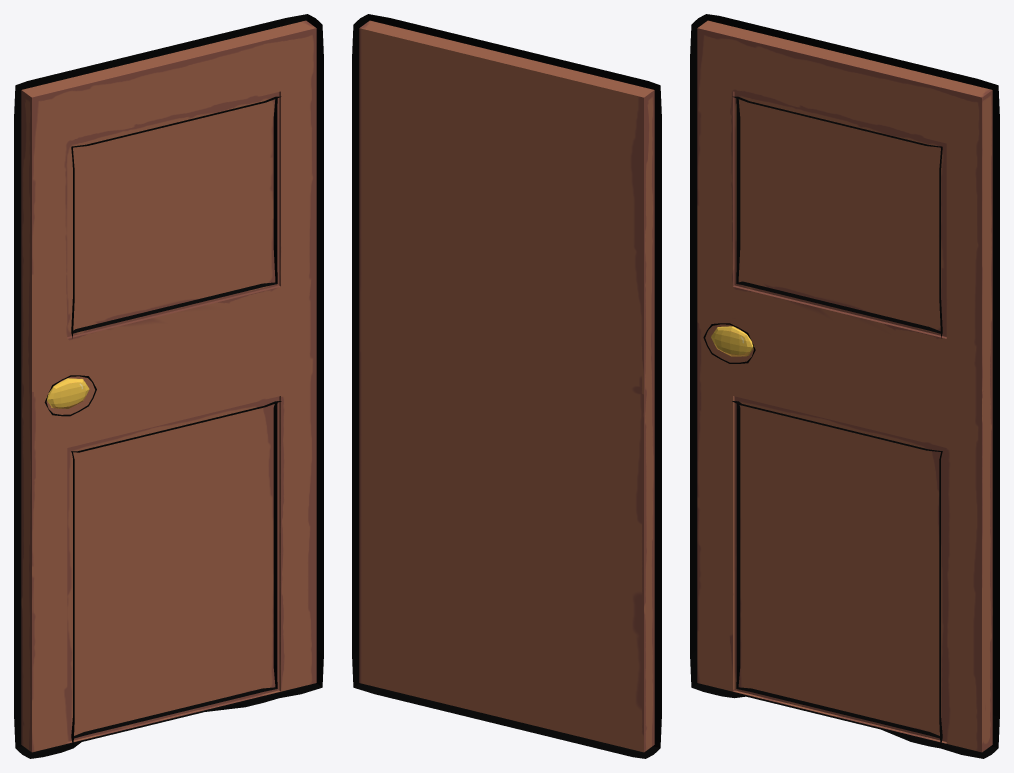
The model's file is RoomDoorV1.fbx.
The picture shows the model from 3 angles, left to right: view 1: azimuth 30°, elevation 25°; view 2: azimuth 150°, elevation 25°; view 3: azimuth 330°, elevation 25°; orthographic projection.
Visible parts, largest first — view 1: Door; view 2: Door; view 3: Door.
Boxes of the visible parts, bbox=[...] form: Door: bbox=[14, 14, 323, 758]; Door: bbox=[352, 14, 661, 758]; Door: bbox=[690, 14, 999, 758].
Bounding box in the file's own units: 95.2 × 204 × 11.61.
Materials: 2 (1 with a texture image).
